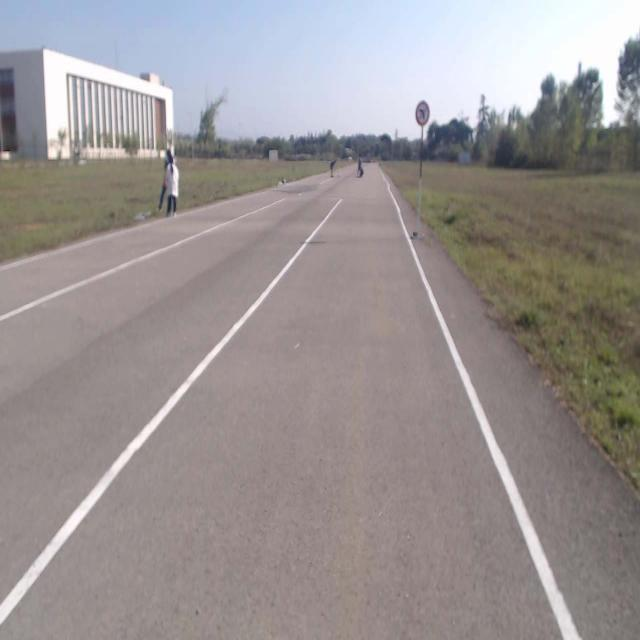soladonulmez: (416, 102, 430, 126)
